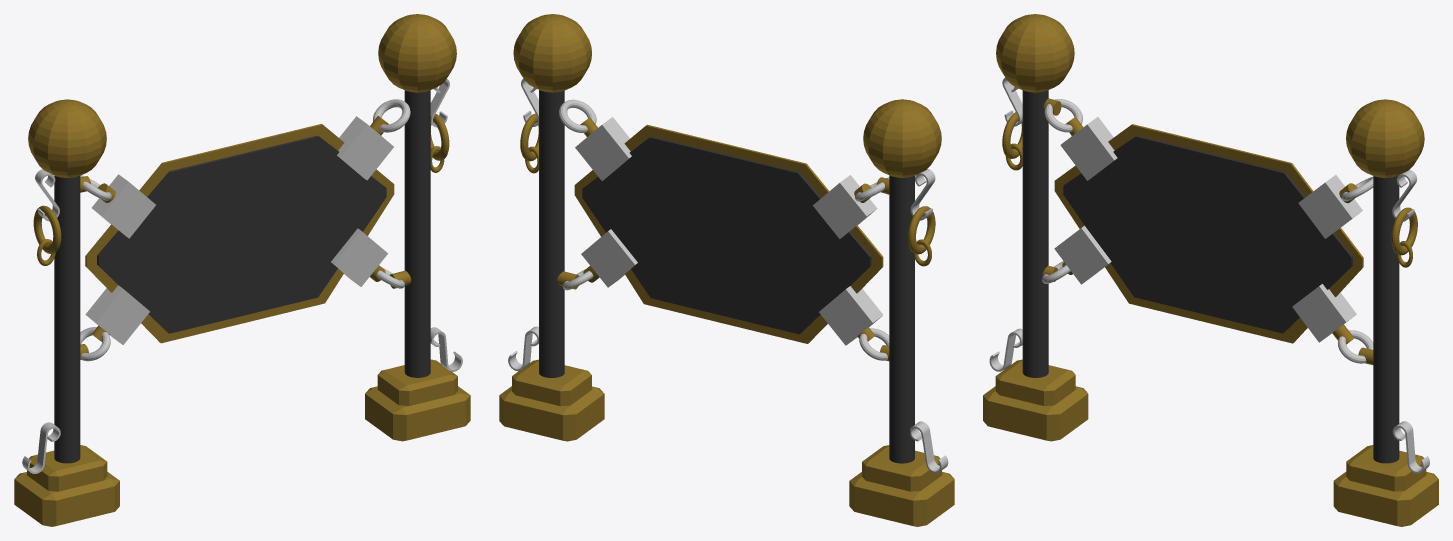
File: sphereSign.fbx
3 renders of one model, left to right at view 1: azimuth 30°, elevation 25°; view 2: azimuth 150°, elevation 25°; view 3: azimuth 330°, elevation 25°, orthographic.
Visible parts, largest first — view 1: Cube.172, Cylinder.108, Cylinder.107, Cube.171, Sphere, Sphere.001, Cube.177, Cube.173, Cube.178, Cube.174, Cube.168, Cube.170 (+4 smaller); view 2: Cube.172, Cylinder.108, Cylinder.107, Cube.171, Sphere.001, Sphere, Cube.177, Cube.173, Cube.178, Cube.174, Cube.168, Cube.170 (+5 smaller); view 3: Cube.172, Cylinder.107, Cylinder.108, Cube.171, Sphere.001, Sphere, Cube.173, Cube.177, Cube.174, Cube.178, Cube.170, Cube.169 (+6 smaller).
Part boxes in pixels (x1,y1,x2,y2): Cube.172: (97,135,386,333); Cylinder.108: (404,90,430,377); Cylinder.107: (54,175,80,463); Cube.171: (85,124,394,343); Sphere: (378,14,456,92); Sphere.001: (28,99,106,177); Cube.177: (365,386,470,441); Cube.173: (14,472,119,526); Cube.178: (377,359,457,405); Cube.174: (27,445,107,491); Cube.168: (85,285,149,344); Cube.170: (337,116,393,180); Cube.172: (582,136,871,334); Cylinder.108: (539,90,564,377); Cylinder.107: (889,175,914,463); Cube.171: (574,124,883,343); Sphere.001: (863,99,941,177); Sphere: (513,14,591,92); Cube.177: (499,386,604,441); Cube.173: (849,472,954,526); Cube.178: (512,359,591,406); Cube.174: (862,445,941,491); Cube.168: (819,286,883,345); Cube.170: (575,117,631,180); Cube.172: (1063,135,1352,333); Cylinder.107: (1022,90,1048,377); Cylinder.108: (1373,175,1399,463); Cube.171: (1054,124,1363,343); Sphere.001: (996,14,1074,92); Sphere: (1346,99,1424,177); Cube.173: (983,386,1088,441); Cube.177: (1333,472,1438,526); Cube.174: (995,359,1075,405); Cube.178: (1346,445,1426,491); Cube.170: (1298,175,1362,238); Cube.169: (1292,284,1356,342).
Size of the model in its own units: 1274 by 1139 by 200.
